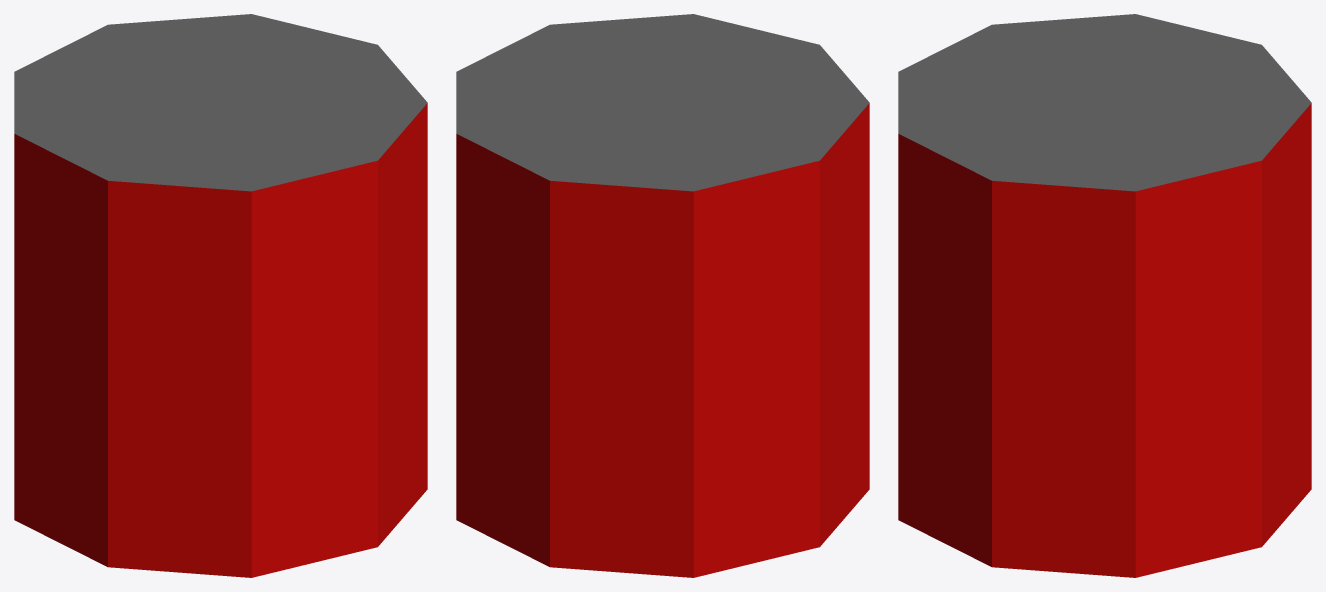
The model's file is Баночка.fbx.
3 renders of one model, left to right at view 1: azimuth 30°, elevation 25°; view 2: azimuth 150°, elevation 25°; view 3: azimuth 270°, elevation 25°, orthographic.
Parts seen in each view (by area): view 1: Cylinder.265; view 2: Cylinder.265; view 3: Cylinder.265.
Boxes of the visible parts, x1,y1,x2,y2 form: Cylinder.265: [14, 14, 427, 577]; Cylinder.265: [456, 14, 869, 577]; Cylinder.265: [898, 14, 1311, 577].
Bounding box in the file's own units: 42 × 42.65 × 41.36.
